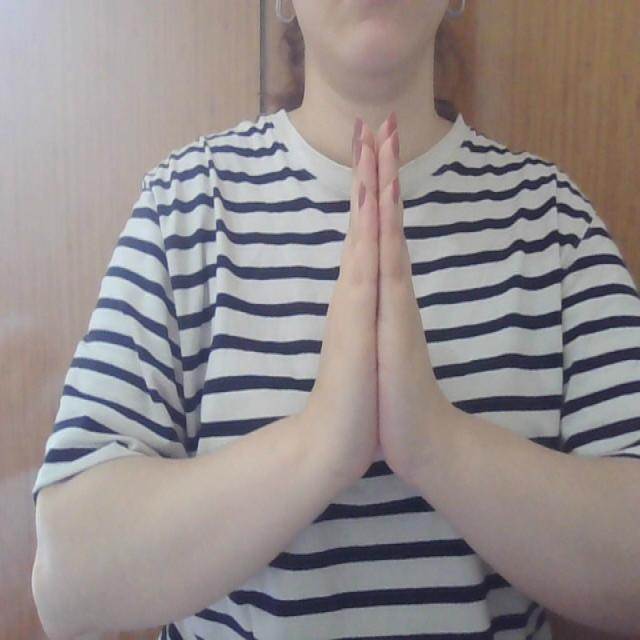Ozur-Dilemek: (297, 100, 462, 522)
